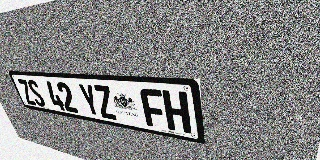2: (55, 82, 78, 113)
4: (44, 81, 66, 111)
F: (139, 88, 167, 129)
H: (162, 90, 191, 134)
S: (26, 79, 47, 107)
Y: (77, 83, 102, 117)
Z: (92, 85, 118, 120), (16, 79, 37, 106)
